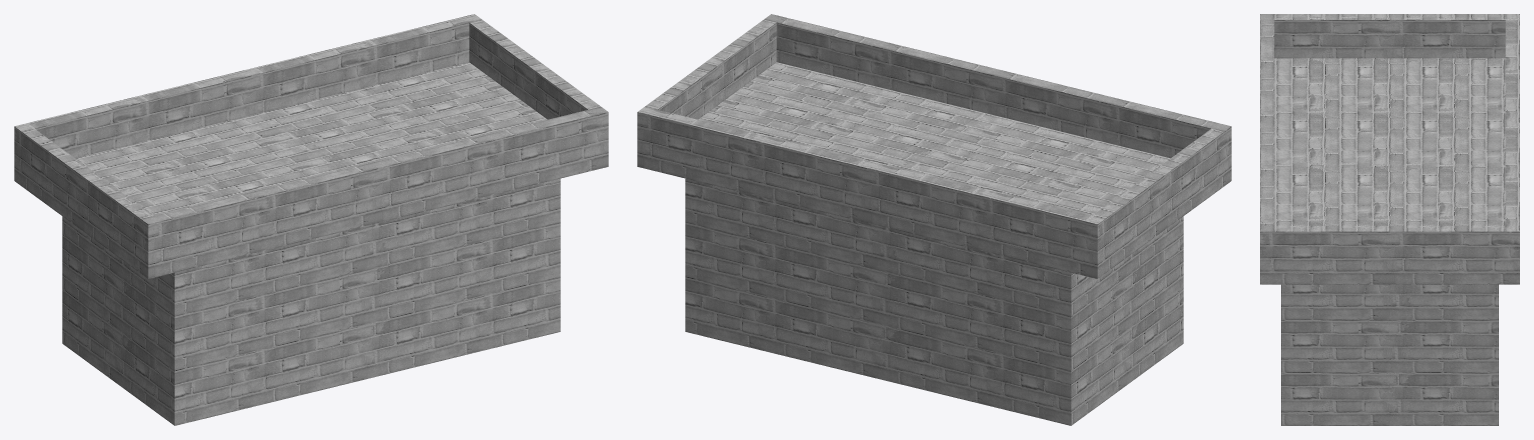
Rendered from BaseTorres_Quadrada_Mapa06.FBX.
3 renders of one model, left to right at view 1: azimuth 30°, elevation 25°; view 2: azimuth 150°, elevation 25°; view 3: azimuth 270°, elevation 25°, orthographic. The views are drawn at different scales.
Visible parts, largest first — view 1: Box013; view 2: Box013; view 3: Box013.
Boxes of the visible parts, x1,y1,x2,y2 form: Box013: (14,14,608,425); Box013: (637,14,1231,425); Box013: (1260,14,1519,425).
Bounding box in the file's own units: 315 × 143 × 159.
